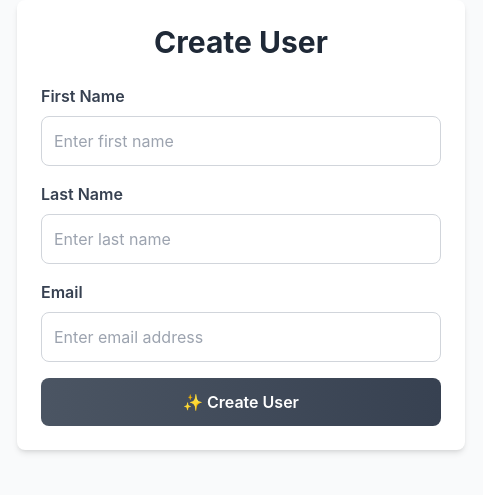
Test case: CreateUser Component › First Name Validation › validates first name with special characters
Type "John@" into the field with test id "first-name-input".
click(241, 141); type("John@")  # box [41,116,441,166]
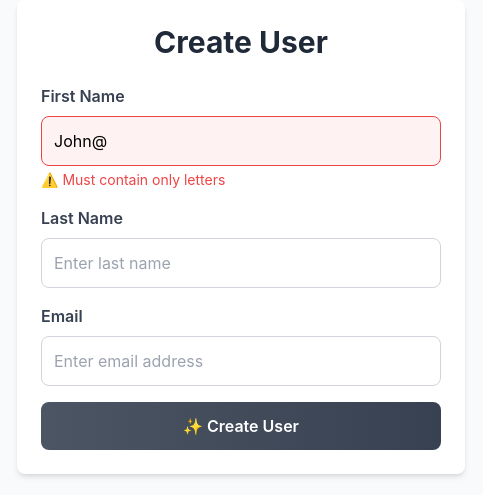
Check: the text "⚠️ Must contain only letters" is shown, box [41,171,225,188]
